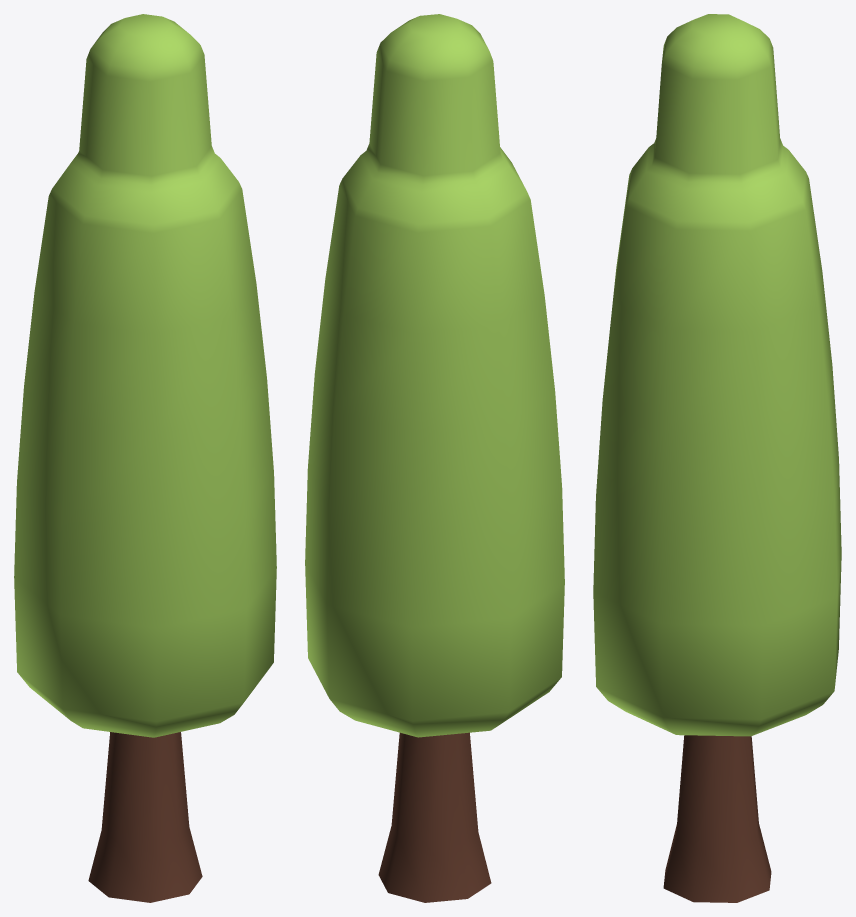
Rendered from tree_02.fbx.
The picture shows the model from 3 angles, left to right: view 1: azimuth 30°, elevation 25°; view 2: azimuth 150°, elevation 25°; view 3: azimuth 270°, elevation 25°; orthographic projection.
Visible parts, largest first — view 1: tree_02; view 2: tree_02; view 3: tree_02.
Boxes of the visible parts, bbox=[...] form: tree_02: bbox=[14, 14, 276, 902]; tree_02: bbox=[305, 14, 564, 902]; tree_02: bbox=[593, 14, 841, 902].
Size of the model in its own units: 1.27 by 4.82 by 1.27.
Materials: 1 (1 with a texture image).
